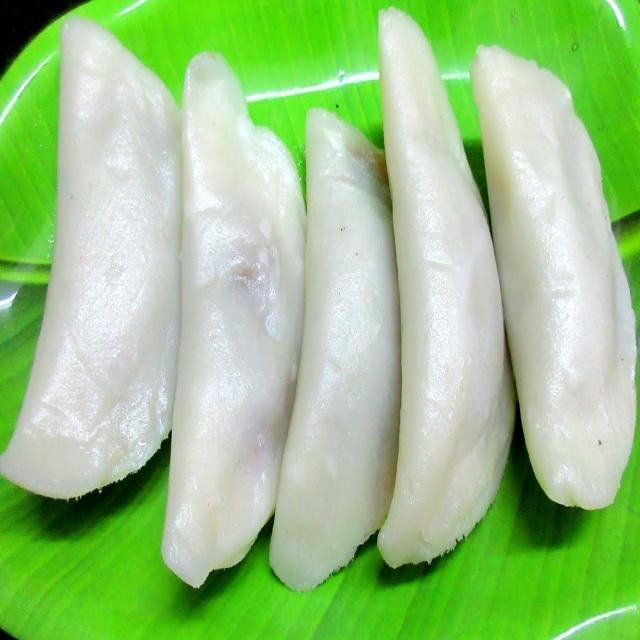poorna kolukattai: (7, 7, 640, 588)
